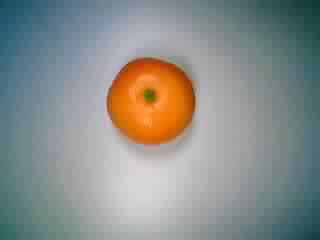orange: (100, 48, 196, 144)
